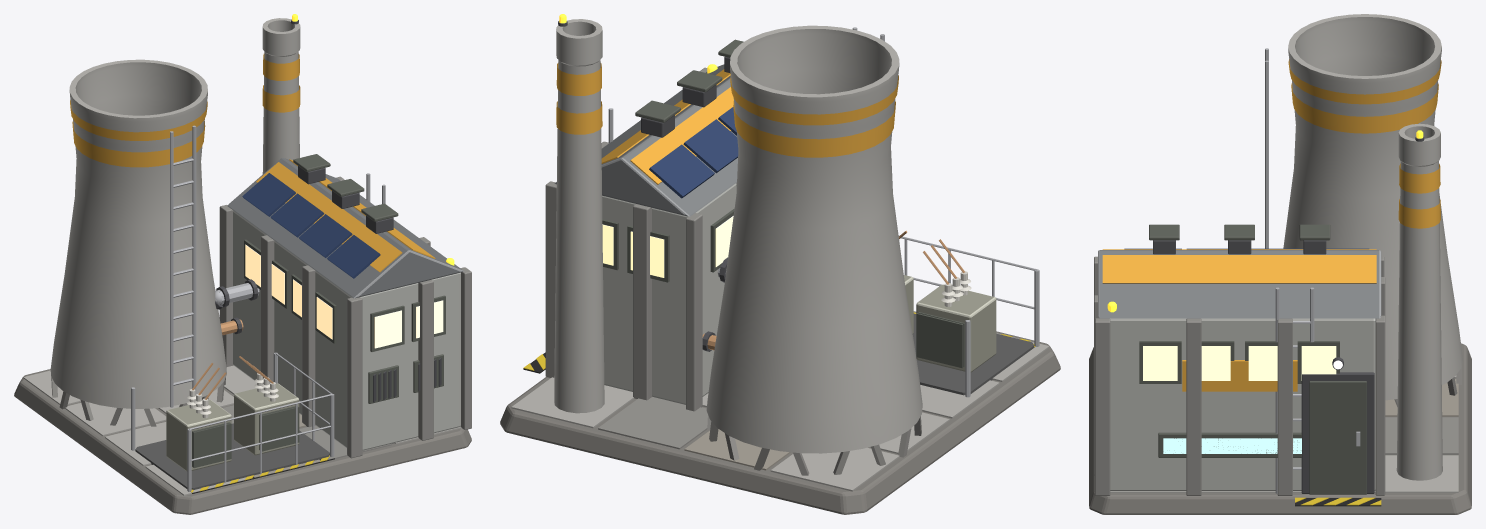
Rendered from power_plant_orange.glb.
The picture shows the model from 3 angles, left to right: view 1: azimuth 30°, elevation 25°; view 2: azimuth 150°, elevation 25°; view 3: azimuth 270°, elevation 25°; orthographic projection. The views are drawn at different scales.
Visible parts, largest first — view 1: Body; view 2: Body; view 3: Body.
Part boxes in pixels (left/top/right/bottom): Body: left=14, top=14, right=471, bottom=514; Body: left=500, top=14, right=1060, bottom=514; Body: left=1089, top=14, right=1471, bottom=514.
Bounding box in the file's own units: 4.18 × 4.21 × 3.98.
Materials: 1 (1 with a texture image).
